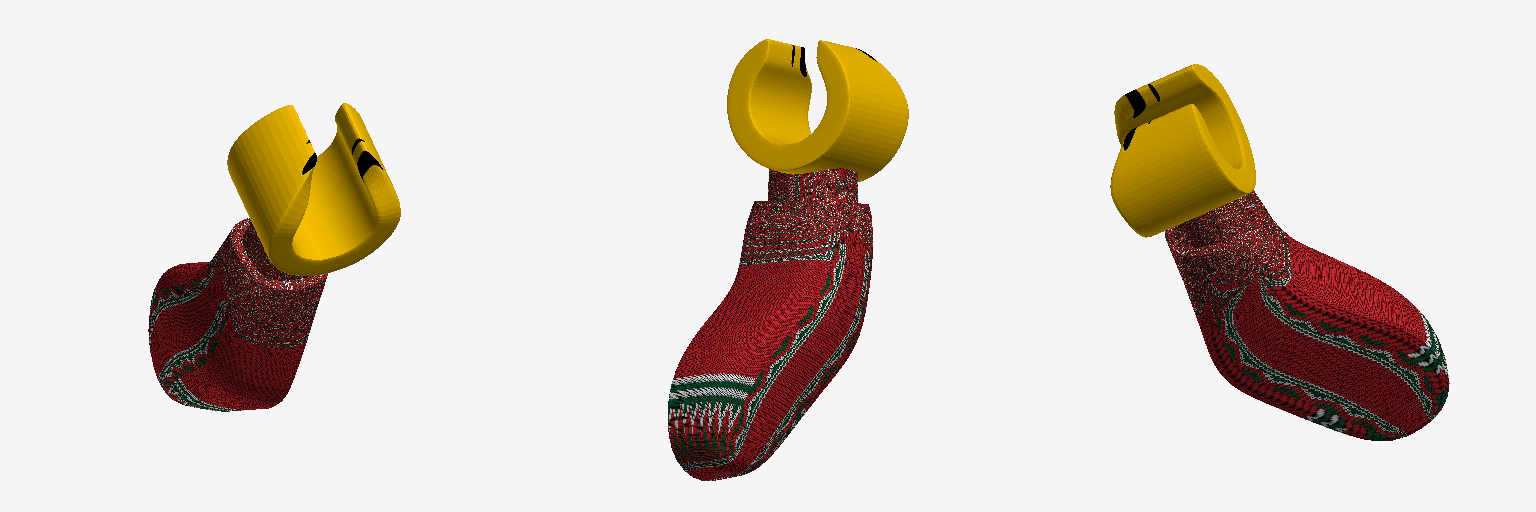
3 views of the same model, side by side, from view 1: azimuth 30°, elevation 25°; view 2: azimuth 150°, elevation 25°; view 3: azimuth 270°, elevation 25° (orthographic).
Parts seen in each view (by area): view 1: BrazoDerecho; view 2: BrazoDerecho; view 3: BrazoDerecho.
Boxes of the visible parts, <box> form: BrazoDerecho: <box>148,103,400,411</box>; BrazoDerecho: <box>668,39,908,480</box>; BrazoDerecho: <box>1110,64,1449,440</box>.
Bounding box in the file's own units: 0.9438 × 2.35 × 1.95.
2 materials, 2 textured.